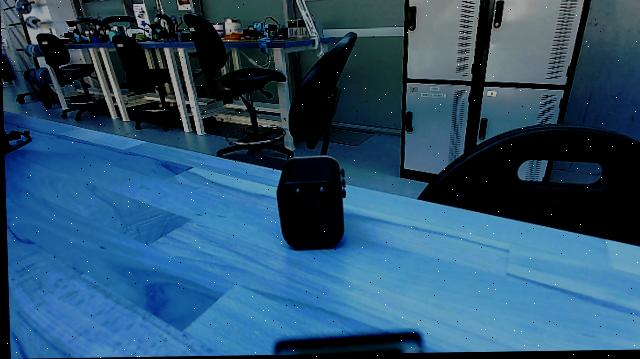adapter: (271, 152, 353, 256)
